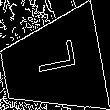L_W: (26, 45, 78, 85)
